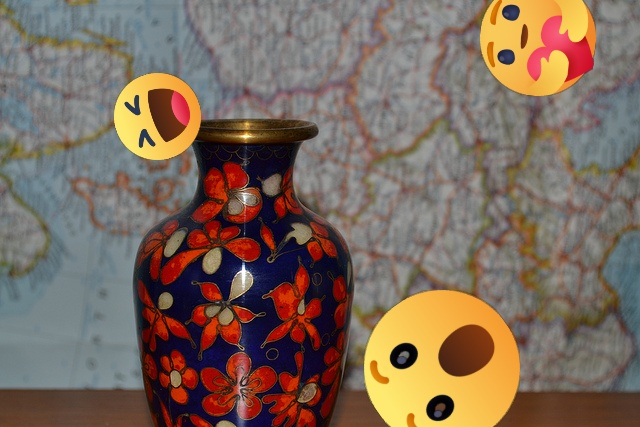care: (480, 0, 596, 96)
haha: (114, 73, 201, 160)
wow: (364, 290, 520, 427)
